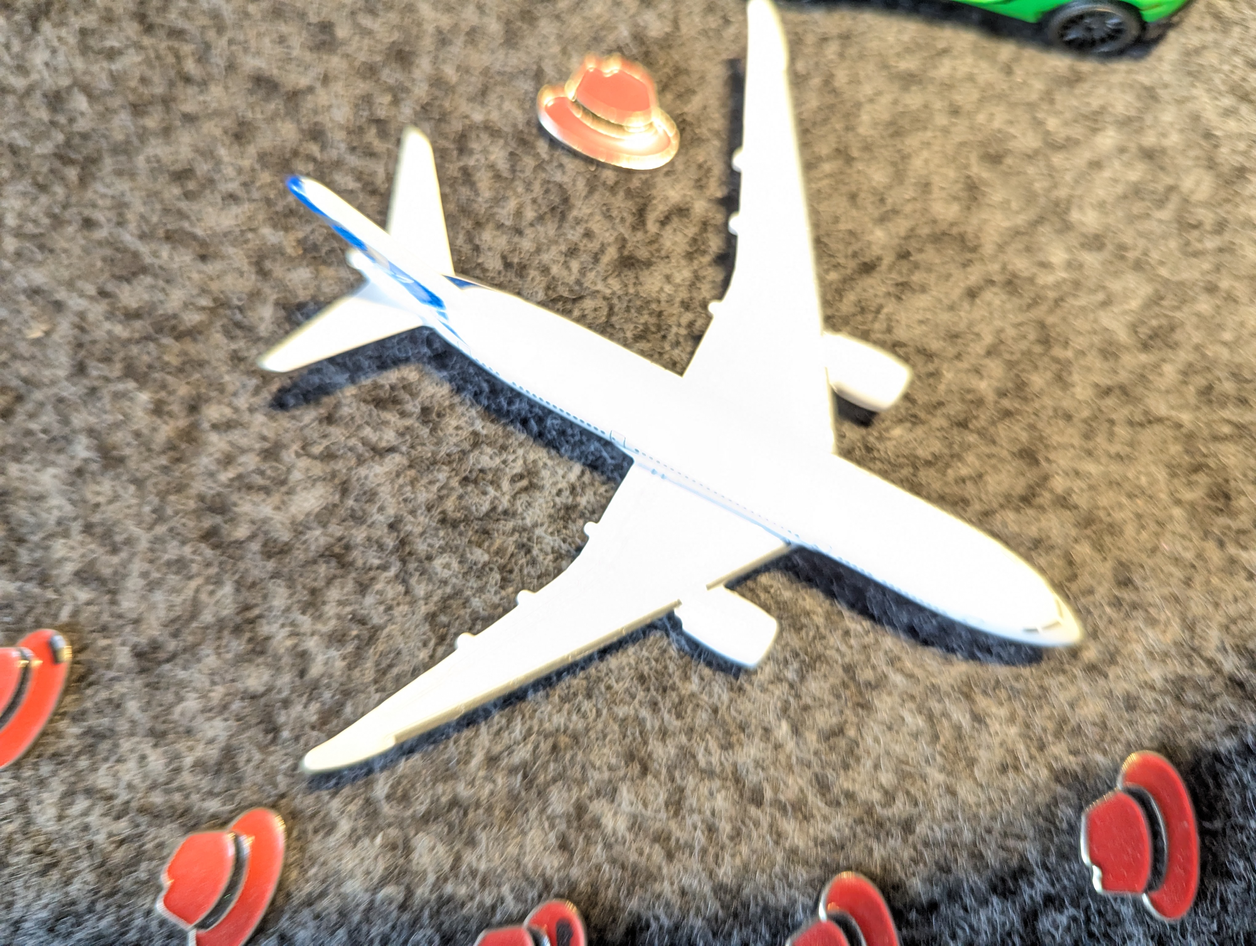Airplane: (249, 0, 1095, 778)
Red-Hat: (1058, 707, 1205, 943), (144, 788, 328, 946), (519, 35, 692, 203), (743, 847, 929, 946), (0, 594, 86, 802), (455, 870, 609, 946)
Scratch: (29, 616, 93, 675), (537, 900, 591, 946)
